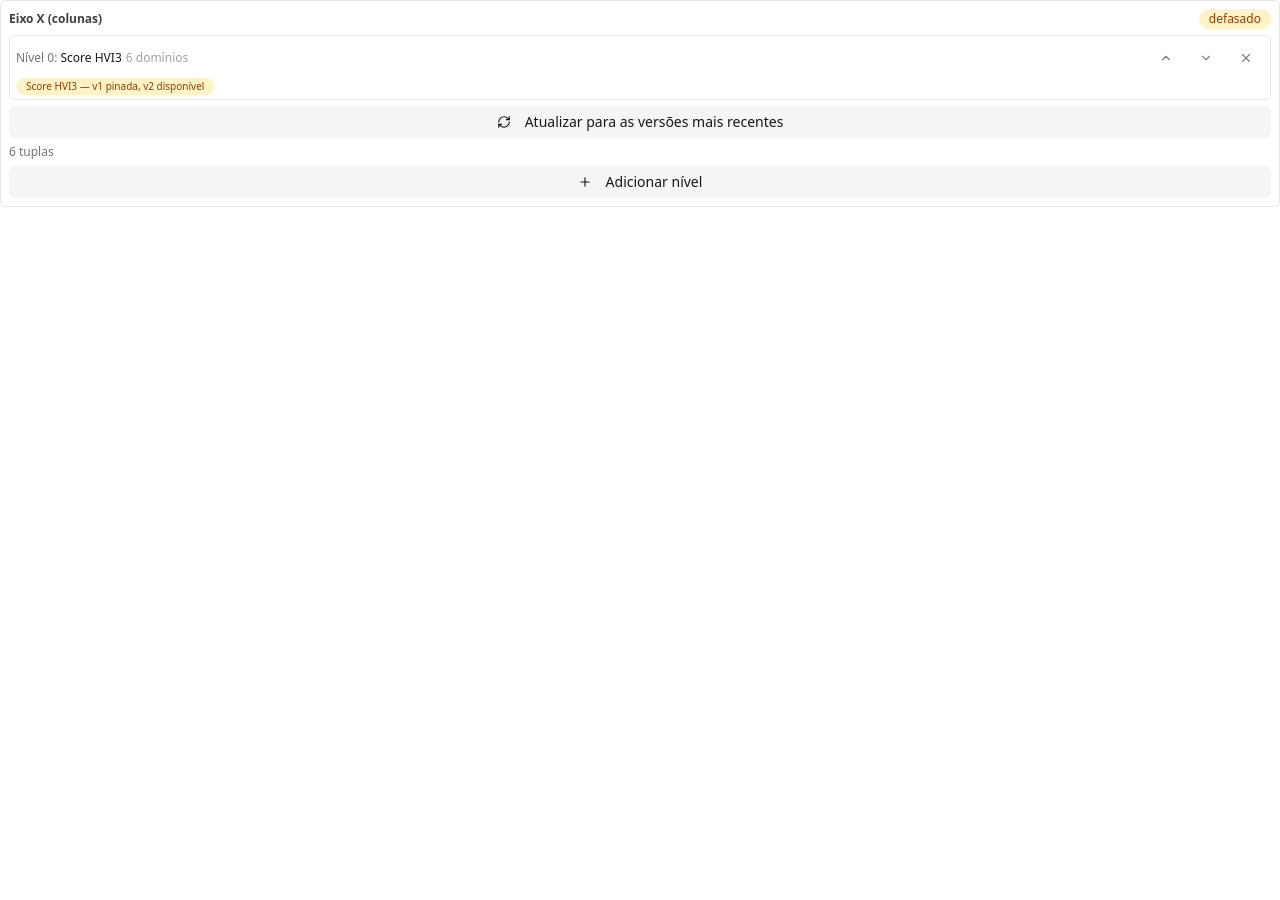
Test: badge de defasagem e diálogo de reconciliação › o preview abre sem gravar nada e conta as células novas
The width and height of the screenshot is (1280, 900).
Click the button with test id "resnapshot-X" at (640, 122), box x1=9 y1=106 x2=1271 y2=138
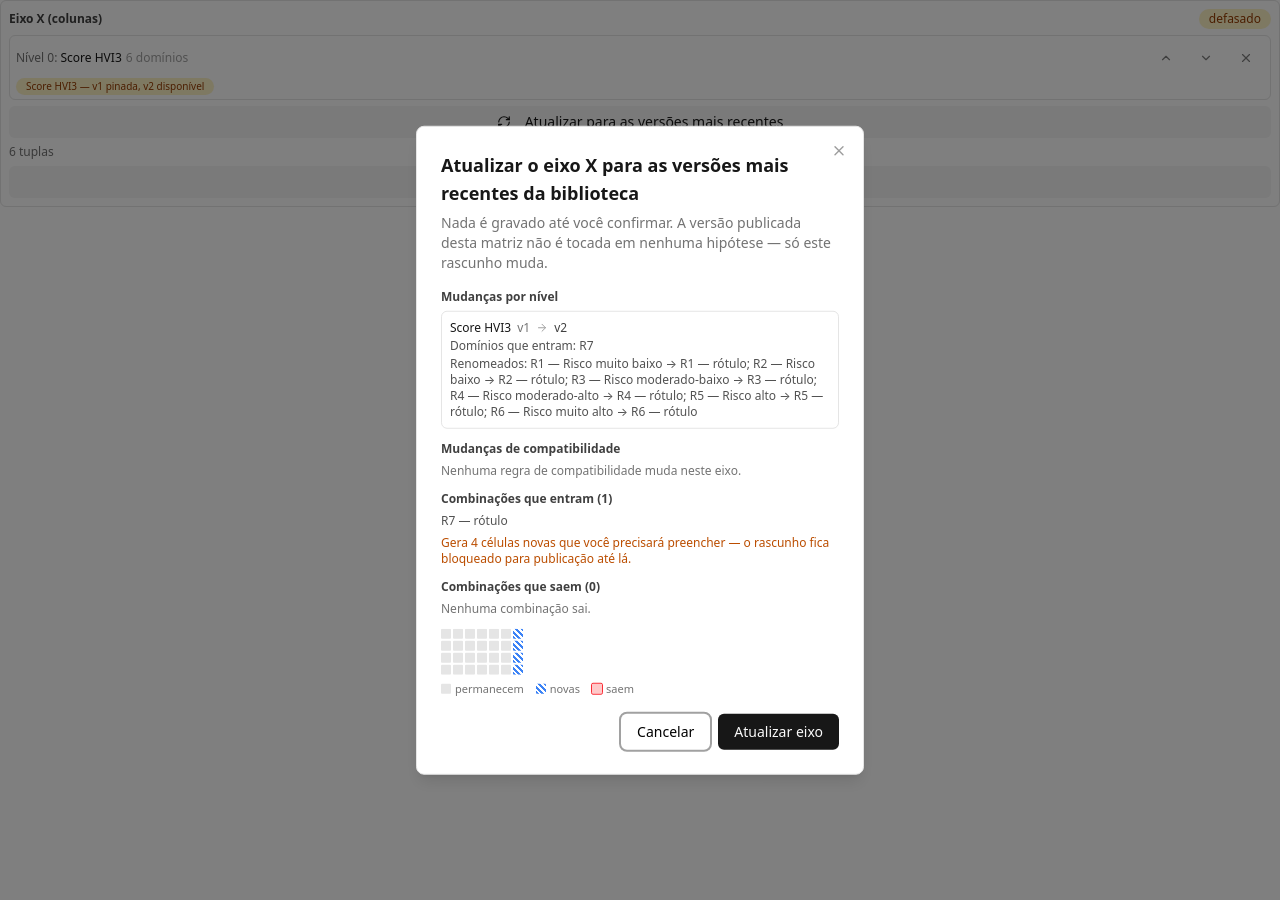
Expected: the element with test id "resnapshot-added" shows "Gera 4 células novas que você precisará preencher", x1=441 y1=491 x2=839 y2=567
Click the button "Atualizar eixo" at (779, 731), box x1=718 y1=713 x2=839 y2=749
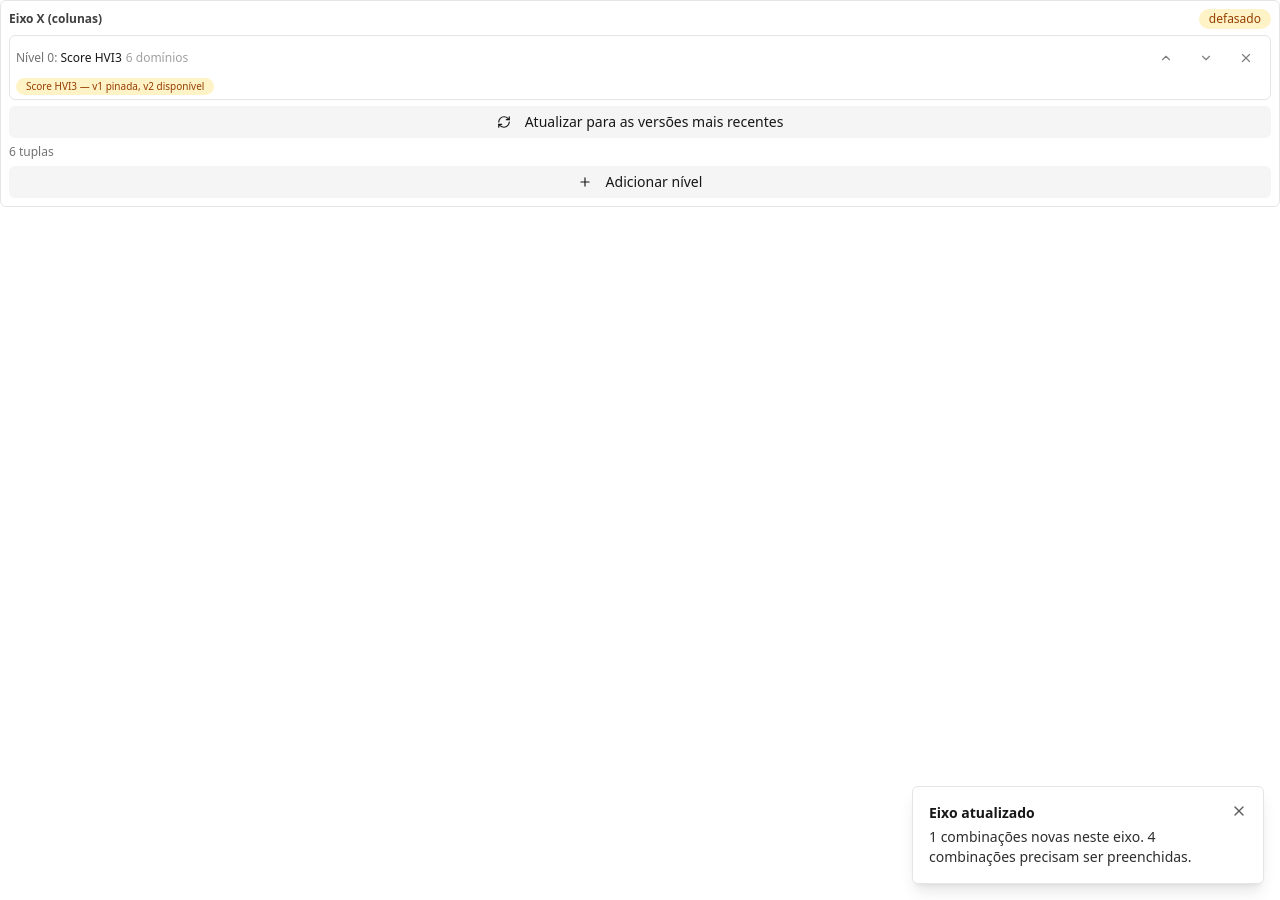
Expected: the text "4 combinações precisam ser preenchidas" is shown, x1=929 y1=827 x2=1192 y2=866
